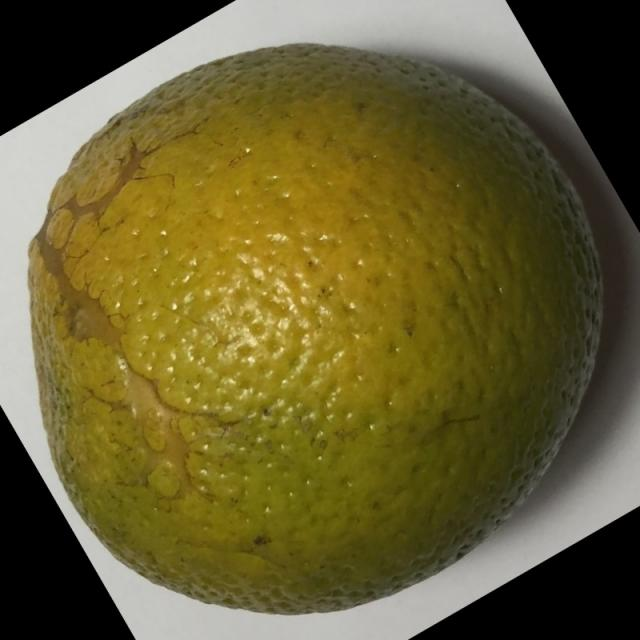canker: (16, 48, 632, 616)
